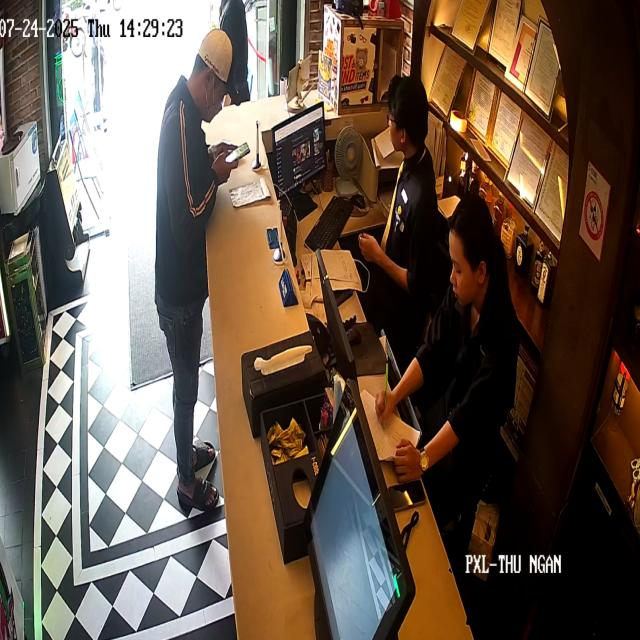khach: (160, 36, 228, 502)
nhan vien: (429, 197, 520, 564), (381, 58, 431, 304)
